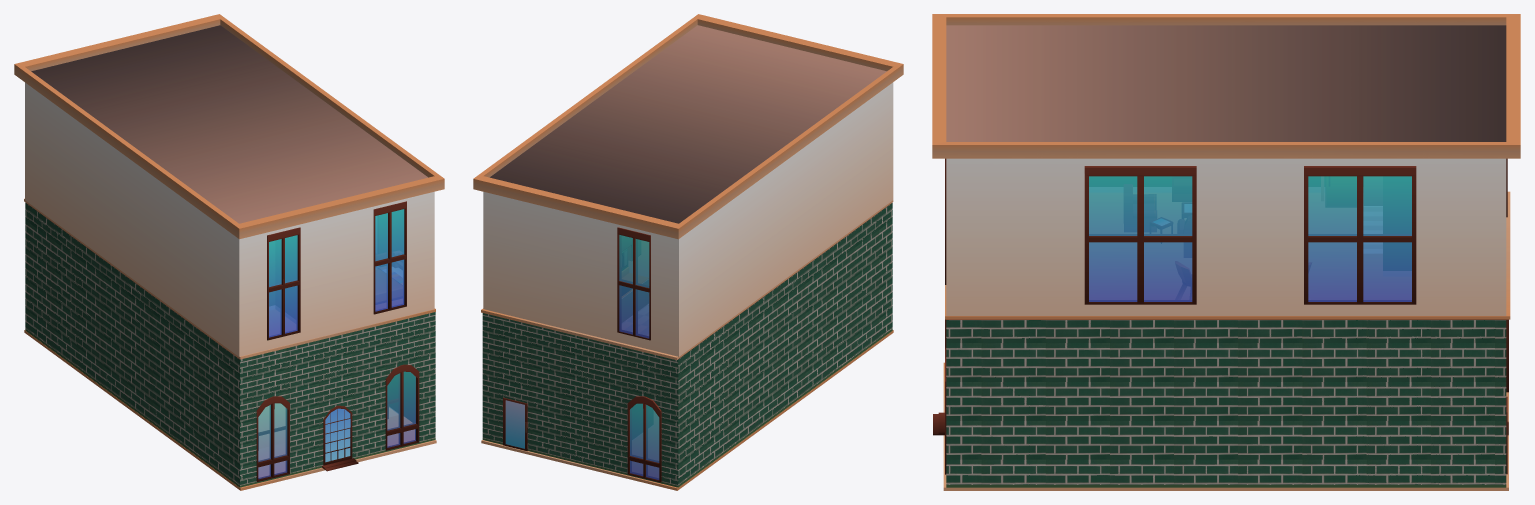
File: StoreBuildingColoredfbx.fbx
3 renders of one model, left to right at view 1: azimuth 30°, elevation 25°; view 2: azimuth 150°, elevation 25°; view 3: azimuth 270°, elevation 25°, orthographic. The views are drawn at different scales.
Visible parts, largest first — view 1: Apartment, Store, WindowPane.002, WindowPane.003, Floor.001, WindowPane.001, WindowPane, Floor, SquareWindow, FrontDoor, SquareWindow.001, ArchedWindow.001 (+2 smaller); view 2: Apartment, Store, WindowPane.004, Floor.001, WindowPane.007, Floor, SquareWindow.002, ArchedWindow.002, Backdoor, Counter; view 3: Apartment, Store, Floor, WindowPane.005, WindowPane.006, SquareWindow.003, SquareWindow.004, Floor.001, Sofa, Fridge, Plane.
Boxes of the visible parts, x1,y1,x2,y2 form: Apartment: [14, 14, 444, 356]; Store: [25, 202, 435, 487]; WindowPane.002: [375, 209, 404, 311]; WindowPane.003: [269, 235, 297, 337]; Floor.001: [24, 330, 436, 490]; WindowPane.001: [387, 371, 415, 447]; WindowPane: [258, 403, 287, 478]; Floor: [24, 198, 435, 359]; SquareWindow: [373, 201, 406, 314]; FrontDoor: [323, 405, 352, 465]; SquareWindow.001: [267, 227, 300, 340]; ArchedWindow.001: [385, 364, 419, 450]; Apartment: [473, 14, 903, 356]; Store: [482, 202, 892, 487]; WindowPane.004: [619, 235, 649, 338]; Floor.001: [481, 330, 893, 490]; WindowPane.007: [630, 403, 659, 479]; Floor: [481, 200, 893, 360]; SquareWindow.002: [617, 227, 650, 340]; ArchedWindow.002: [627, 396, 661, 482]; Backdoor: [503, 397, 527, 451]; Counter: [622, 267, 648, 321]; Apartment: [932, 14, 1520, 315]; Store: [933, 319, 1506, 487]; Floor: [945, 191, 1510, 319]; WindowPane.005: [1308, 176, 1411, 301]; WindowPane.006: [1089, 176, 1192, 301]; SquareWindow.003: [1084, 166, 1196, 304]; SquareWindow.004: [1304, 166, 1416, 304]; Floor.001: [943, 362, 1508, 490]; Sofa: [1124, 184, 1156, 231]; Fridge: [1326, 177, 1356, 206]; Plane: [1364, 206, 1382, 252].
Bounding box in the file's own units: 1677 × 2082 × 3185.
3 materials, 3 textured.
